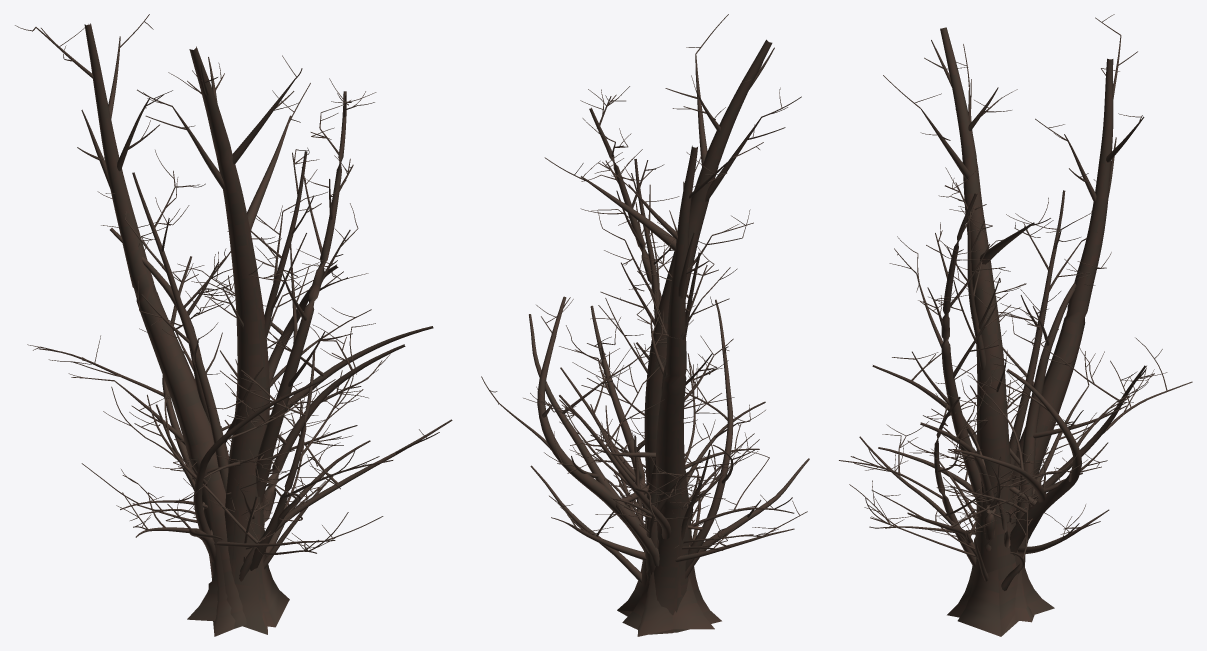
The model's file is trees.glb.
The picture shows the model from 3 angles, left to right: view 1: azimuth 30°, elevation 25°; view 2: azimuth 150°, elevation 25°; view 3: azimuth 270°, elevation 25°; orthographic projection. The views are drawn at different scales.
Parts seen in each view (by area): view 1: giant0_L0, giant1_L0, laurel1_L0, tall1_L0, laurel4_L0, giant0_L1, giant1_L1, tall2_L0, laurel2_L0, laurel3_L0, tall0_L0, laurel0_L0 (+7 smaller); view 2: giant0_L0, giant1_L0, laurel4_L0, laurel3_L0, laurel1_L0, laurel2_L0, giant1_L1, laurel0_L0, tall1_L0, crooked2_L0, tall0_L0, giant0_L1 (+9 smaller); view 3: giant0_L0, giant1_L0, tall1_L0, laurel1_L0, laurel0_L0, giant0_L1, laurel4_L0, laurel3_L0, tall2_L0, laurel2_L0, tall0_L0, giant1_L1 (+8 smaller).
Boxes of the visible parts, x1,y1,x2,y2 form: giant0_L0: [137, 46, 310, 634]; giant1_L0: [15, 14, 246, 628]; laurel1_L0: [103, 323, 451, 581]; tall1_L0: [248, 78, 376, 502]; laurel4_L0: [129, 251, 383, 546]; giant0_L1: [137, 47, 309, 627]; giant1_L1: [35, 23, 235, 636]; tall2_L0: [97, 150, 234, 492]; laurel2_L0: [27, 256, 335, 522]; laurel3_L0: [116, 326, 433, 555]; tall0_L0: [192, 147, 327, 349]; laurel0_L0: [68, 222, 292, 460]; giant0_L0: [544, 14, 801, 636]; giant1_L0: [602, 142, 763, 634]; laurel4_L0: [481, 296, 759, 571]; laurel3_L0: [529, 314, 807, 566]; laurel1_L0: [559, 305, 742, 519]; laurel2_L0: [548, 347, 794, 550]; giant1_L1: [628, 142, 763, 632]; laurel0_L0: [549, 289, 736, 574]; tall1_L0: [580, 86, 753, 325]; crooked2_L0: [530, 458, 809, 583]; tall0_L0: [590, 149, 737, 372]; giant0_L1: [545, 16, 794, 616]; giant0_L0: [883, 27, 1054, 636]; giant1_L0: [1012, 14, 1144, 622]; tall1_L0: [889, 167, 1020, 515]; laurel1_L0: [839, 364, 1106, 566]; laurel0_L0: [961, 252, 1137, 566]; giant0_L1: [883, 28, 1050, 636]; laurel4_L0: [869, 353, 1154, 555]; laurel3_L0: [849, 365, 1108, 558]; tall2_L0: [998, 190, 1097, 475]; laurel2_L0: [909, 329, 1192, 500]; tall0_L0: [928, 208, 1026, 392]; giant1_L1: [1034, 30, 1142, 478].
Bounding box in the file's own units: 14.51 × 25.51 × 14.76.
